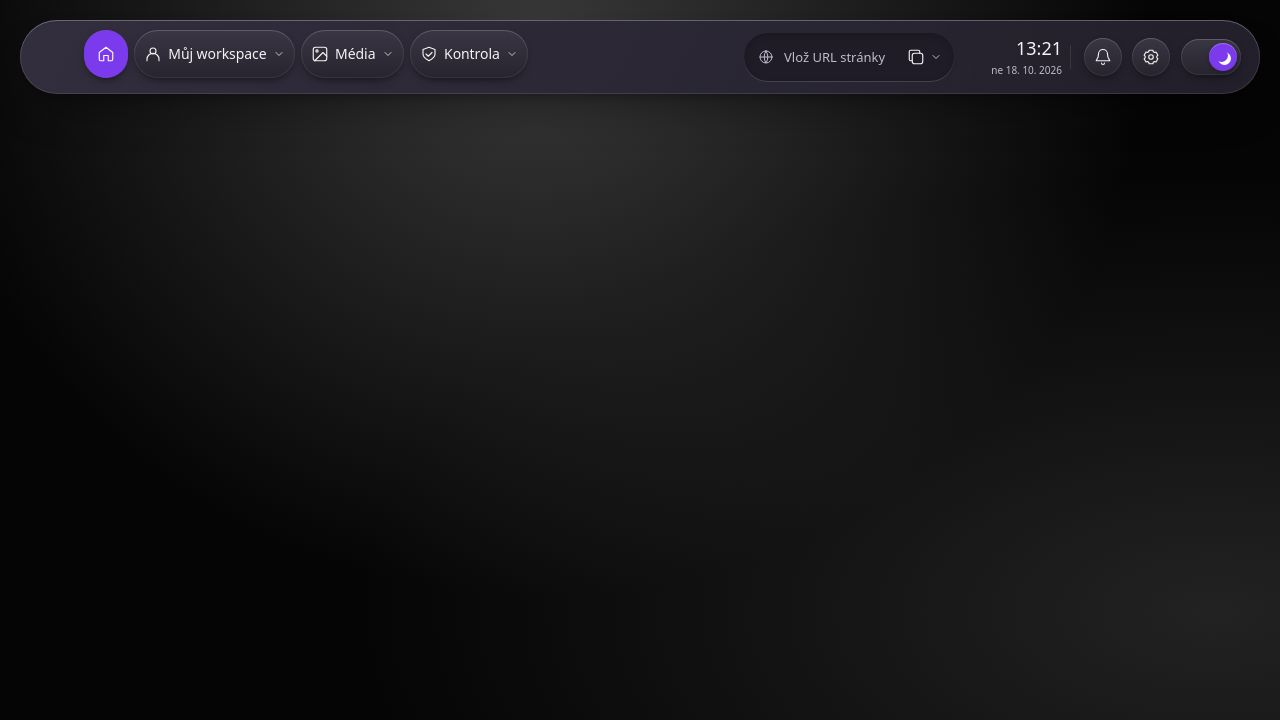
Scenario: migrated application › clears native validity when an external valid URL replaces an invalid draft
Type "javascript:alert(1)" into the field named "Aktuální URL". click: x=836, y=57
box: [774,35,897,79]
Then press Enter
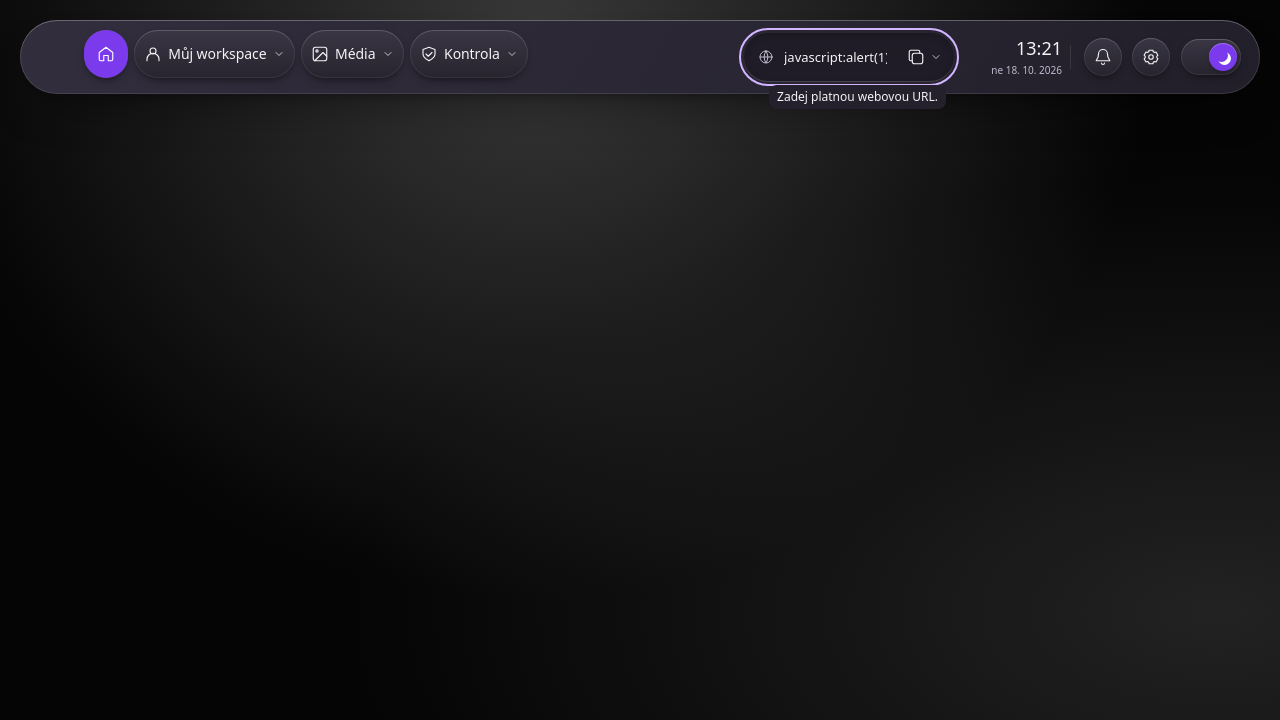
Click the button named "Nastavení". click: x=1151, y=57
box: [1129,35,1173,79]
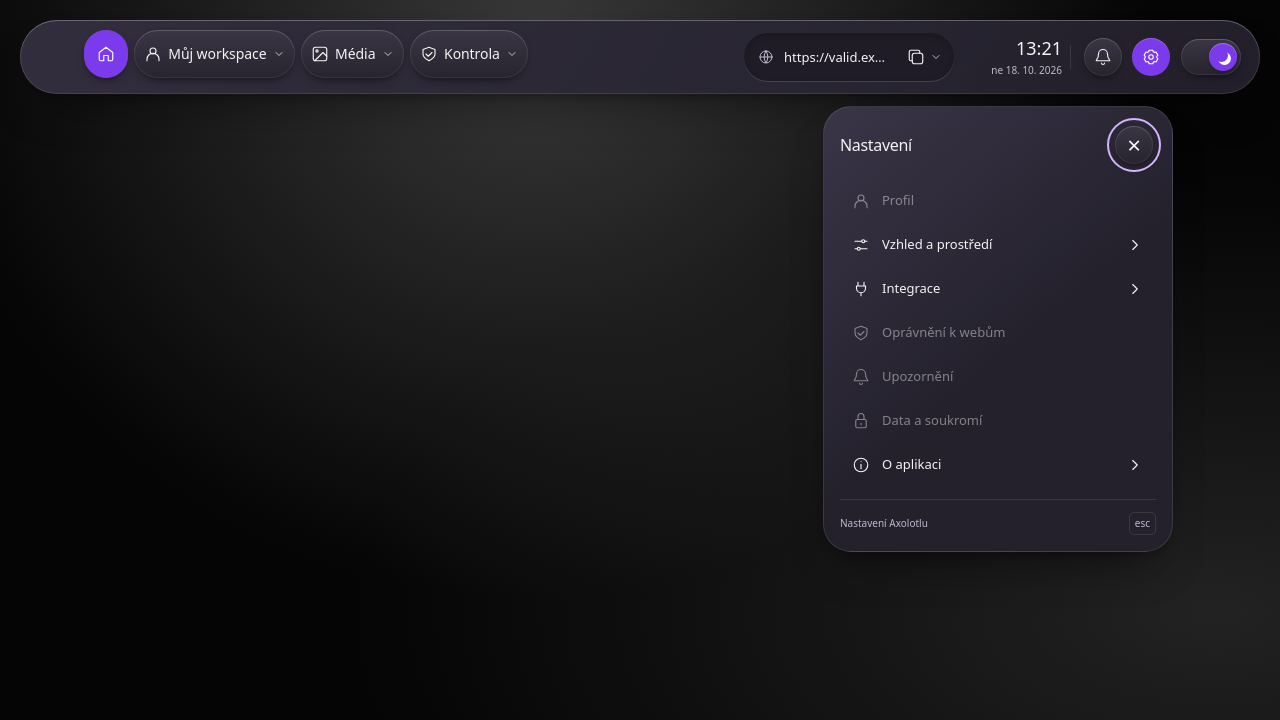
Result: the field named "Aktuální URL" holds "https://valid.example/" at [774,35,897,79]
